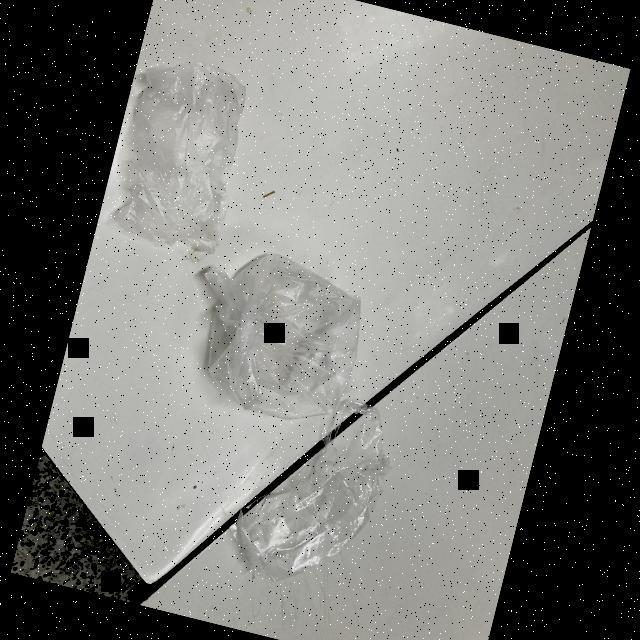plastic_bag: (212, 372, 410, 610), (172, 227, 380, 436)
scrap_plastic: (95, 38, 276, 268)
